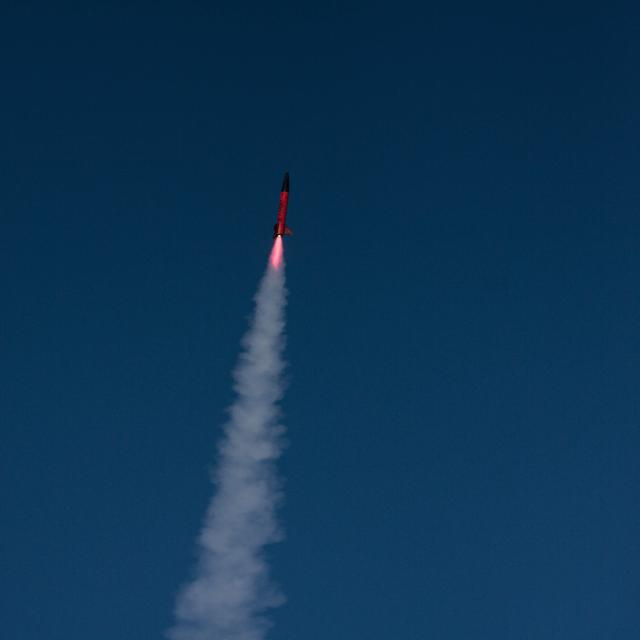Rocket: (272, 170, 294, 239)
